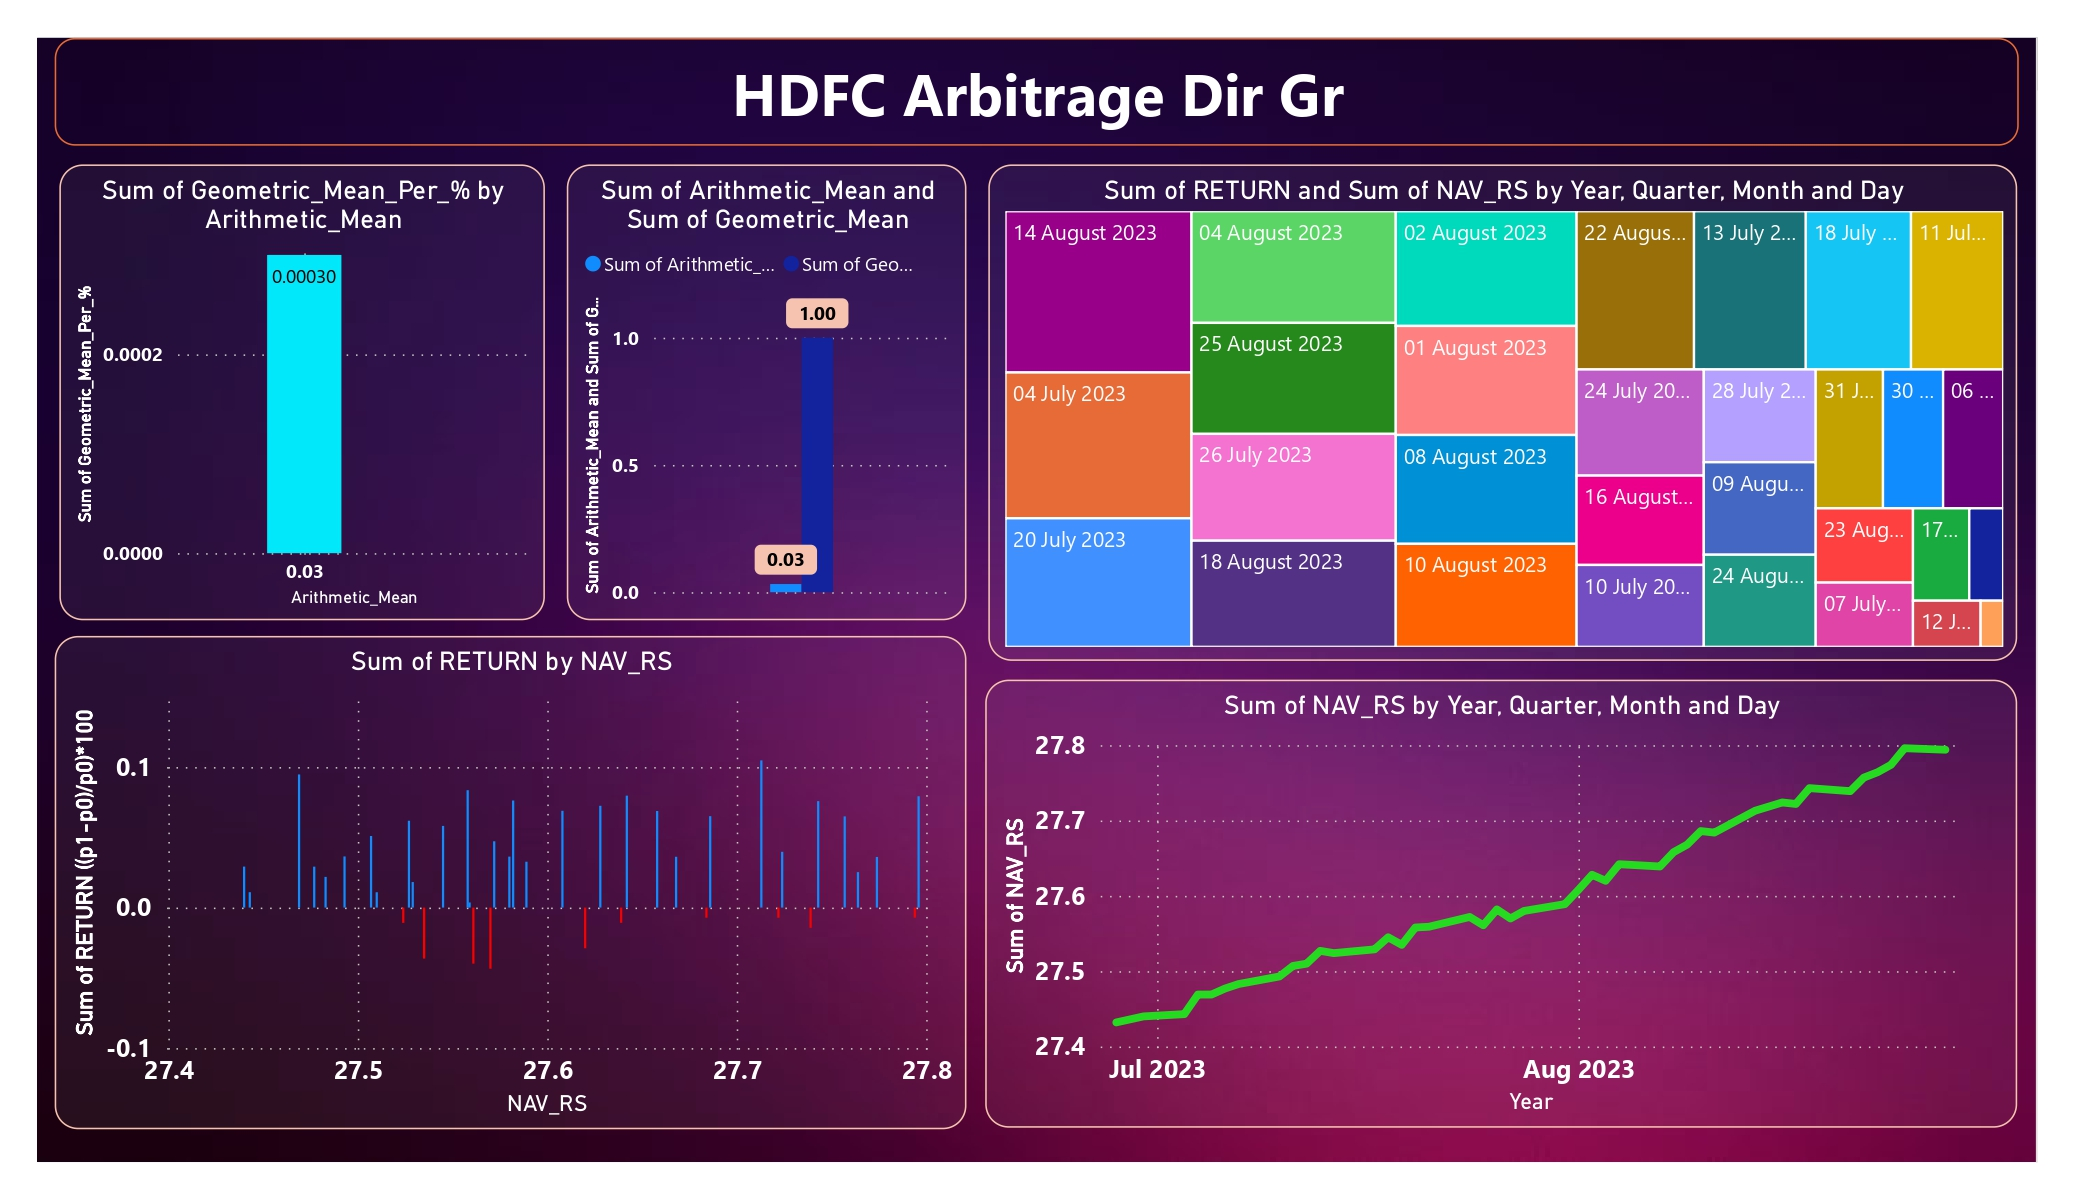

What the dashboard file says about the page in this screenshot:
{"tool":"powerbi","page":{"name":"HDFC Arbitrage Dir Gr","canvas":[1280,720],"ordinal":5},"visuals":[{"type":"textbox","box":[11.4,0,1257.1,68.6],"z":0},{"type":"lineChart","fields":{"Category":["HDFC Arbitrage Dir Gr.NAV_Date.Variation.Date Hierarchy.Year","HDFC Arbitrage Dir Gr.NAV_Date.Variation.Date Hierarchy.Quarter","HDFC Arbitrage Dir Gr.NAV_Date.Variation.Date Hierarchy.Month","HDFC Arbitrage Dir Gr.NAV_Date.Variation.Date Hierarchy.Day"],"Y":["Sum(HDFC Arbitrage Dir Gr.NAV_RS)"]},"box":[607.4,411.3,660.8,286.5],"z":1000},{"type":"treemap","title":"Sum of RETURN and Sum of NAV_RS by Year, Quarter, Month and Day","fields":{"Details":["HDFC Arbitrage Dir Gr.NAV_Date"],"Values":["Sum(HDFC Arbitrage Dir Gr.RETURN ((p1-p0)/p0)*100)"]},"box":[608.7,80.9,659.5,318.1],"z":2000},{"type":"clusteredColumnChart","title":"Sum of RETURN by NAV_RS","fields":{"Category":["HDFC Arbitrage Dir Gr.NAV_RS"],"Y":["Sum(HDFC Arbitrage Dir Gr.RETURN ((p1-p0)/p0)*100)"]},"box":[11,382.5,584.1,316.7],"z":3000},{"type":"clusteredColumnChart","fields":{"Y":["Sum(HDFC Arbitrage Dir Gr.Arithmetic_Mean)","Sum(HDFC Arbitrage Dir Gr.Geometric_Mean)"]},"box":[338.6,80.9,256.4,292],"z":4000},{"type":"columnChart","fields":{"Category":["HDFC Arbitrage Dir Gr.Arithmetic_Mean"],"Y":["Sum(HDFC Arbitrage Dir Gr.Geometric_Mean_Per_%)"]},"box":[13.7,80.9,311.2,292],"z":5000}]}

Visuals, with their boxes on the page's 1280x720 design canvas (x1, y1, x2, y2). These are canvas units, not pixel positions in the 2075x1200 screenshot, which may show the page scaled, cropped or inside an application window:
textbox: [left=11, top=0, right=1268, bottom=69]
lineChart - HDFC Arbitrage Dir Gr.NAV_Date.Variation.Date Hierarchy.Year x HDFC Arbitrage Dir Gr.NAV_Date.Variation.Date Hierarchy.Quarter: [left=607, top=411, right=1268, bottom=698]
"Sum of RETURN and Sum of NAV_RS by Year, Quarter, Month and Day" treemap: [left=609, top=81, right=1268, bottom=399]
"Sum of RETURN by NAV_RS" clusteredColumnChart: [left=11, top=382, right=595, bottom=699]
clusteredColumnChart - Sum(HDFC Arbitrage Dir Gr.Arithmetic_Mean) x Sum(HDFC Arbitrage Dir Gr.Geometric_Mean): [left=339, top=81, right=595, bottom=373]
columnChart - HDFC Arbitrage Dir Gr.Arithmetic_Mean x Sum(HDFC Arbitrage Dir Gr.Geometric_Mean_Per_%): [left=14, top=81, right=325, bottom=373]
